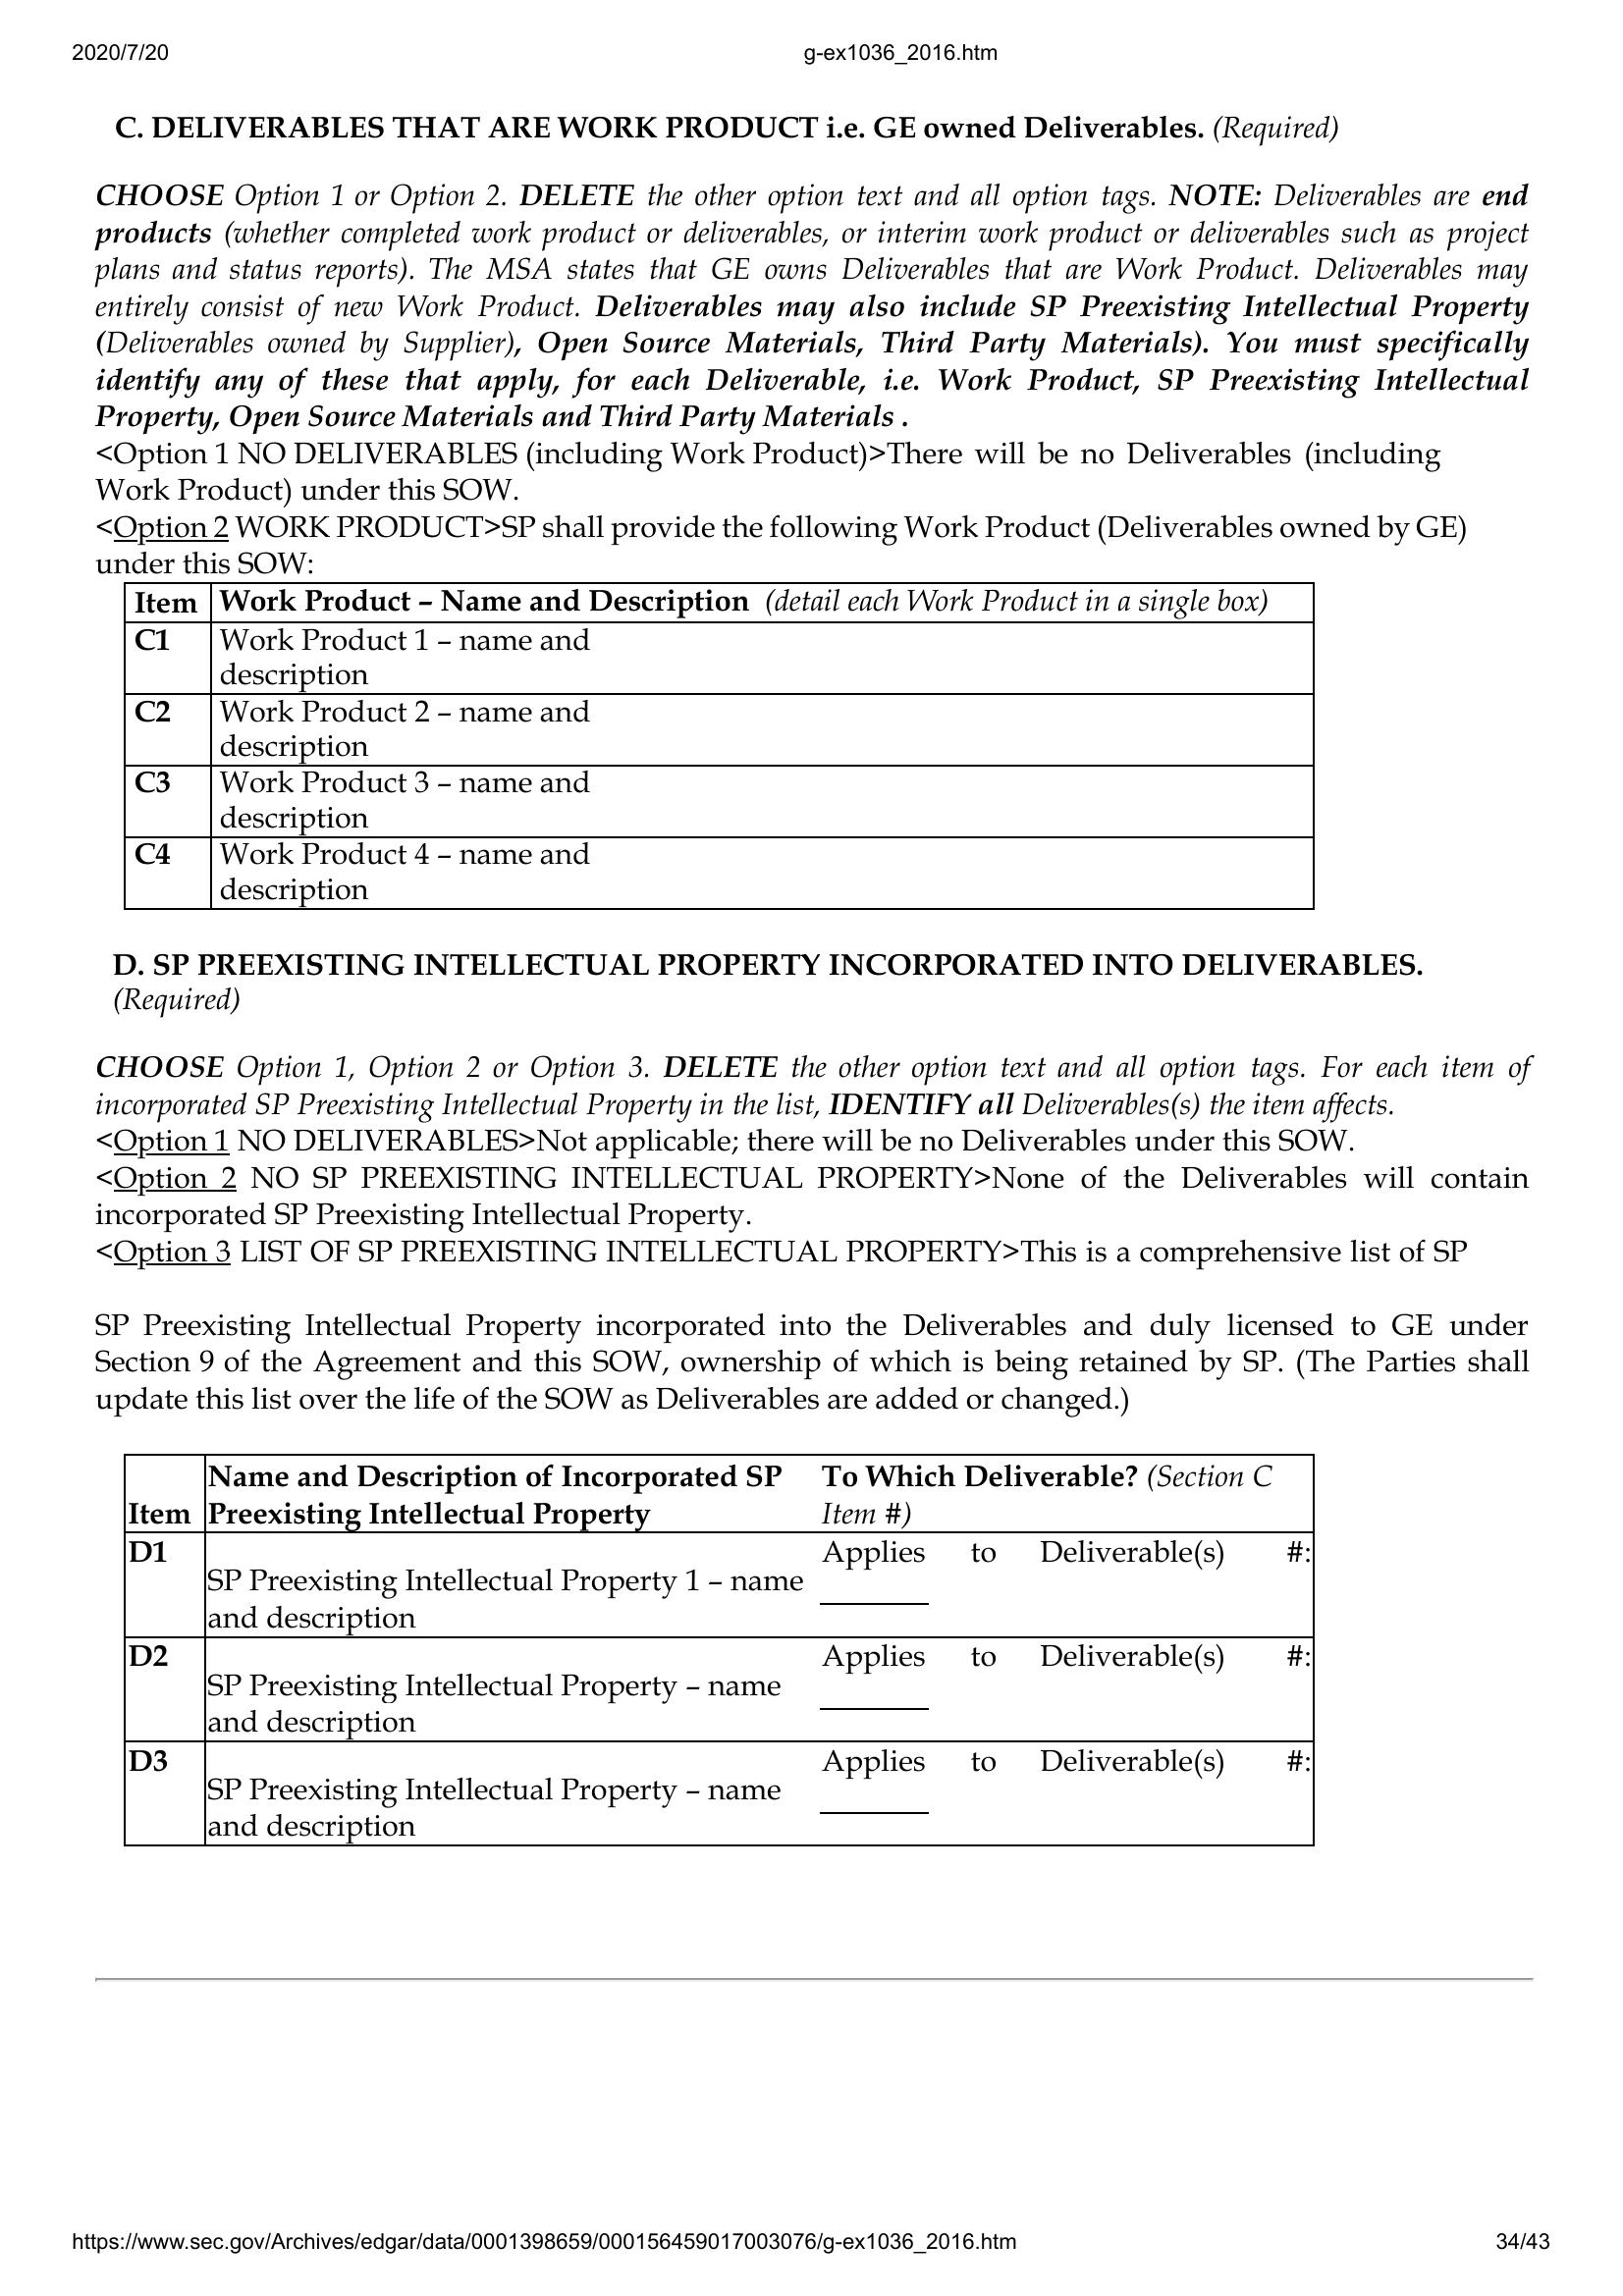table: (114, 1450, 1321, 1852), (119, 572, 1321, 918)
